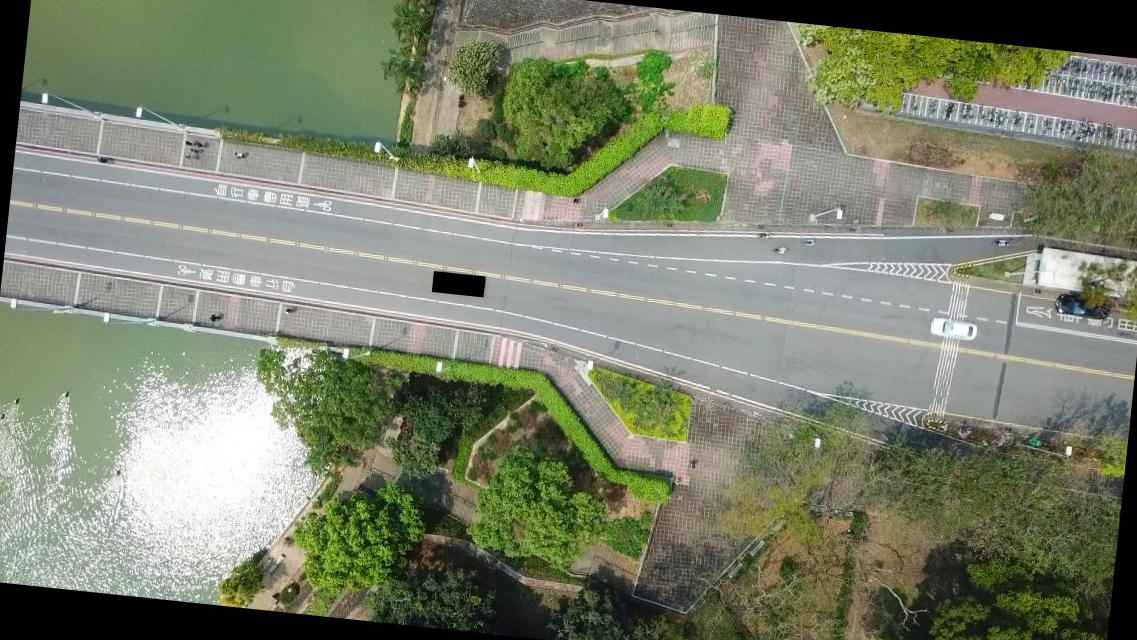vehicle: (1054, 292, 1112, 320), (930, 317, 978, 342)
